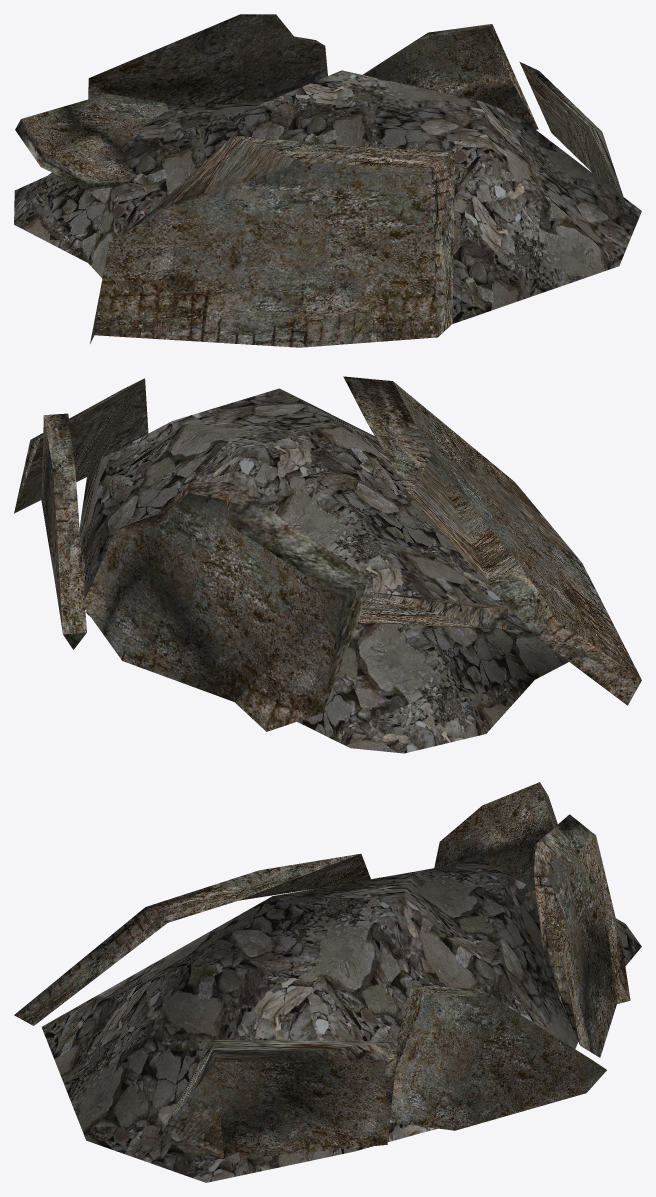
Rendered from Building_Hcz021_lod2.glb.
3 views of the same model, one above another, from view 1: azimuth 30°, elevation 25°; view 2: azimuth 150°, elevation 25°; view 3: azimuth 270°, elevation 25° (orthographic). The views are drawn at different scales.
Visible parts, largest first — view 1: xiutz_hcz021_lod2_0; view 2: xiutz_hcz021_lod2_0; view 3: xiutz_hcz021_lod2_0.
Part boxes in pixels (<box>): xiutz_hcz021_lod2_0: <box>14,14,641,347</box>; xiutz_hcz021_lod2_0: <box>14,376,641,753</box>; xiutz_hcz021_lod2_0: <box>14,782,641,1182</box>.
Size of the model in its own units: 19.93 by 7.49 by 17.95.
Materials: 2 (2 with a texture image).
